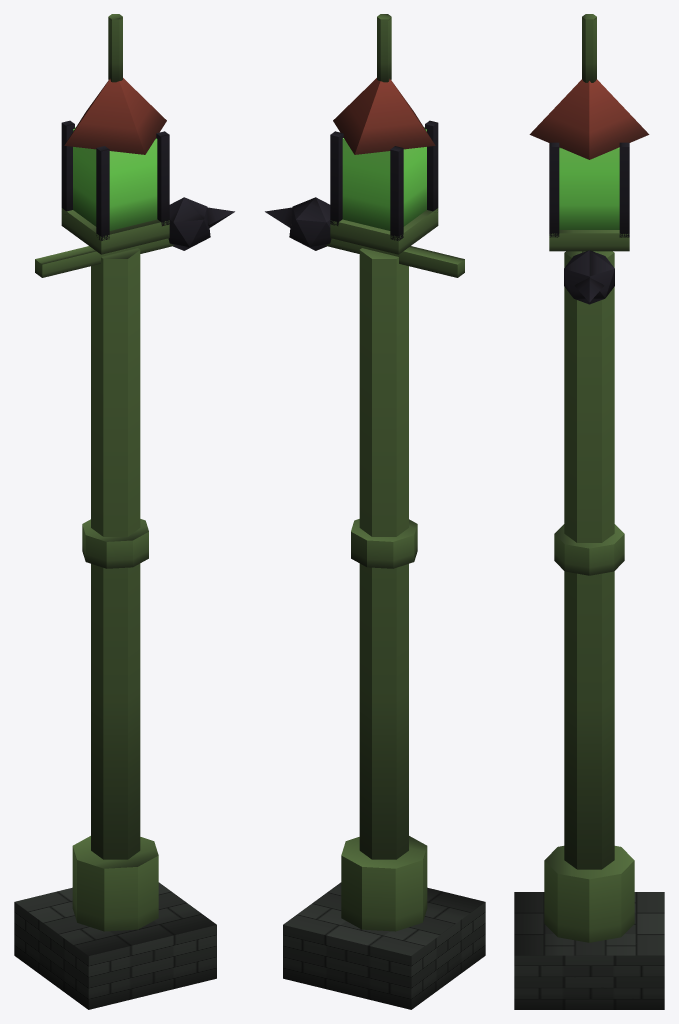
The model's file is streetlamp.obj.
3 renders of one model, left to right at view 1: azimuth 30°, elevation 25°; view 2: azimuth 150°, elevation 25°; view 3: azimuth 270°, elevation 25°, orthographic.
Parts seen in each view (by area): view 1: streetlamp; view 2: streetlamp; view 3: streetlamp.
Boxes of the visible parts, bbox=[...] form: streetlamp: bbox=[14, 14, 234, 1009]; streetlamp: bbox=[265, 14, 485, 1009]; streetlamp: bbox=[514, 14, 664, 1009].
Size of the model in its own units: 0.46 by 2.12 by 0.3.
1 material, 1 textured.
